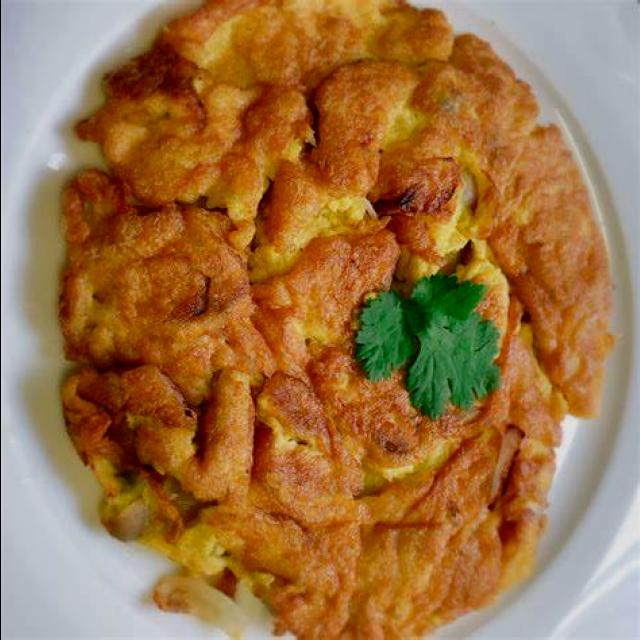telur dadar: (51, 0, 620, 640)
